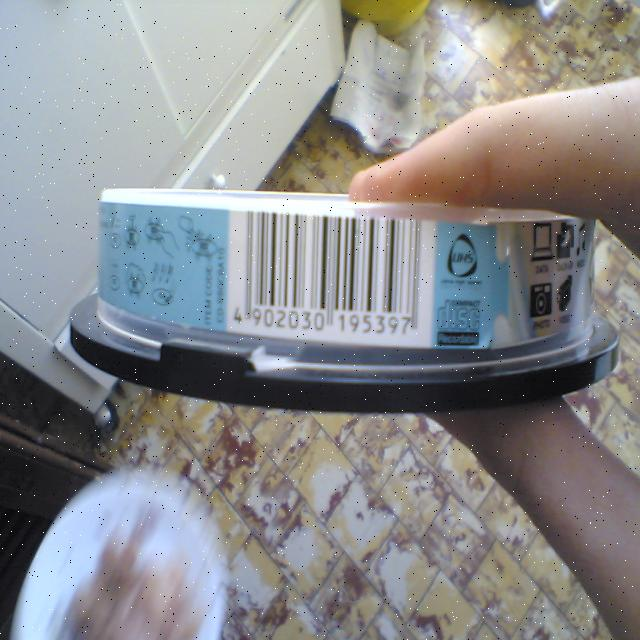barcode: (245, 212, 421, 328)
